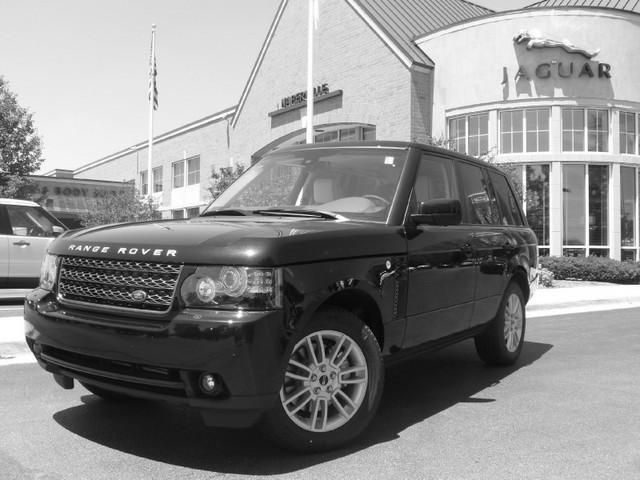car: (24, 141, 539, 455)
